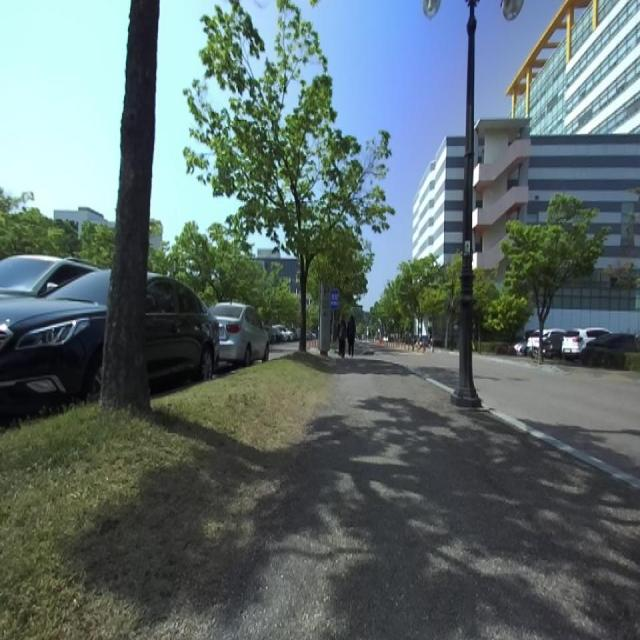sidewalk: (202, 358, 640, 640)
